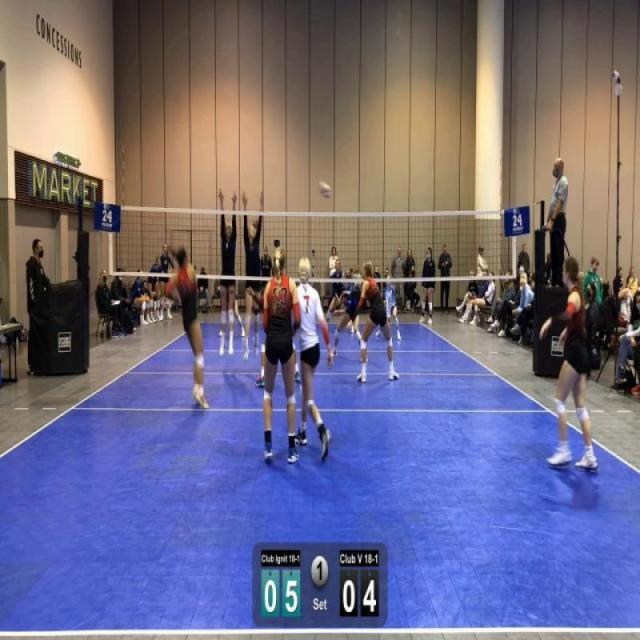volleyball: (318, 180, 332, 200)
